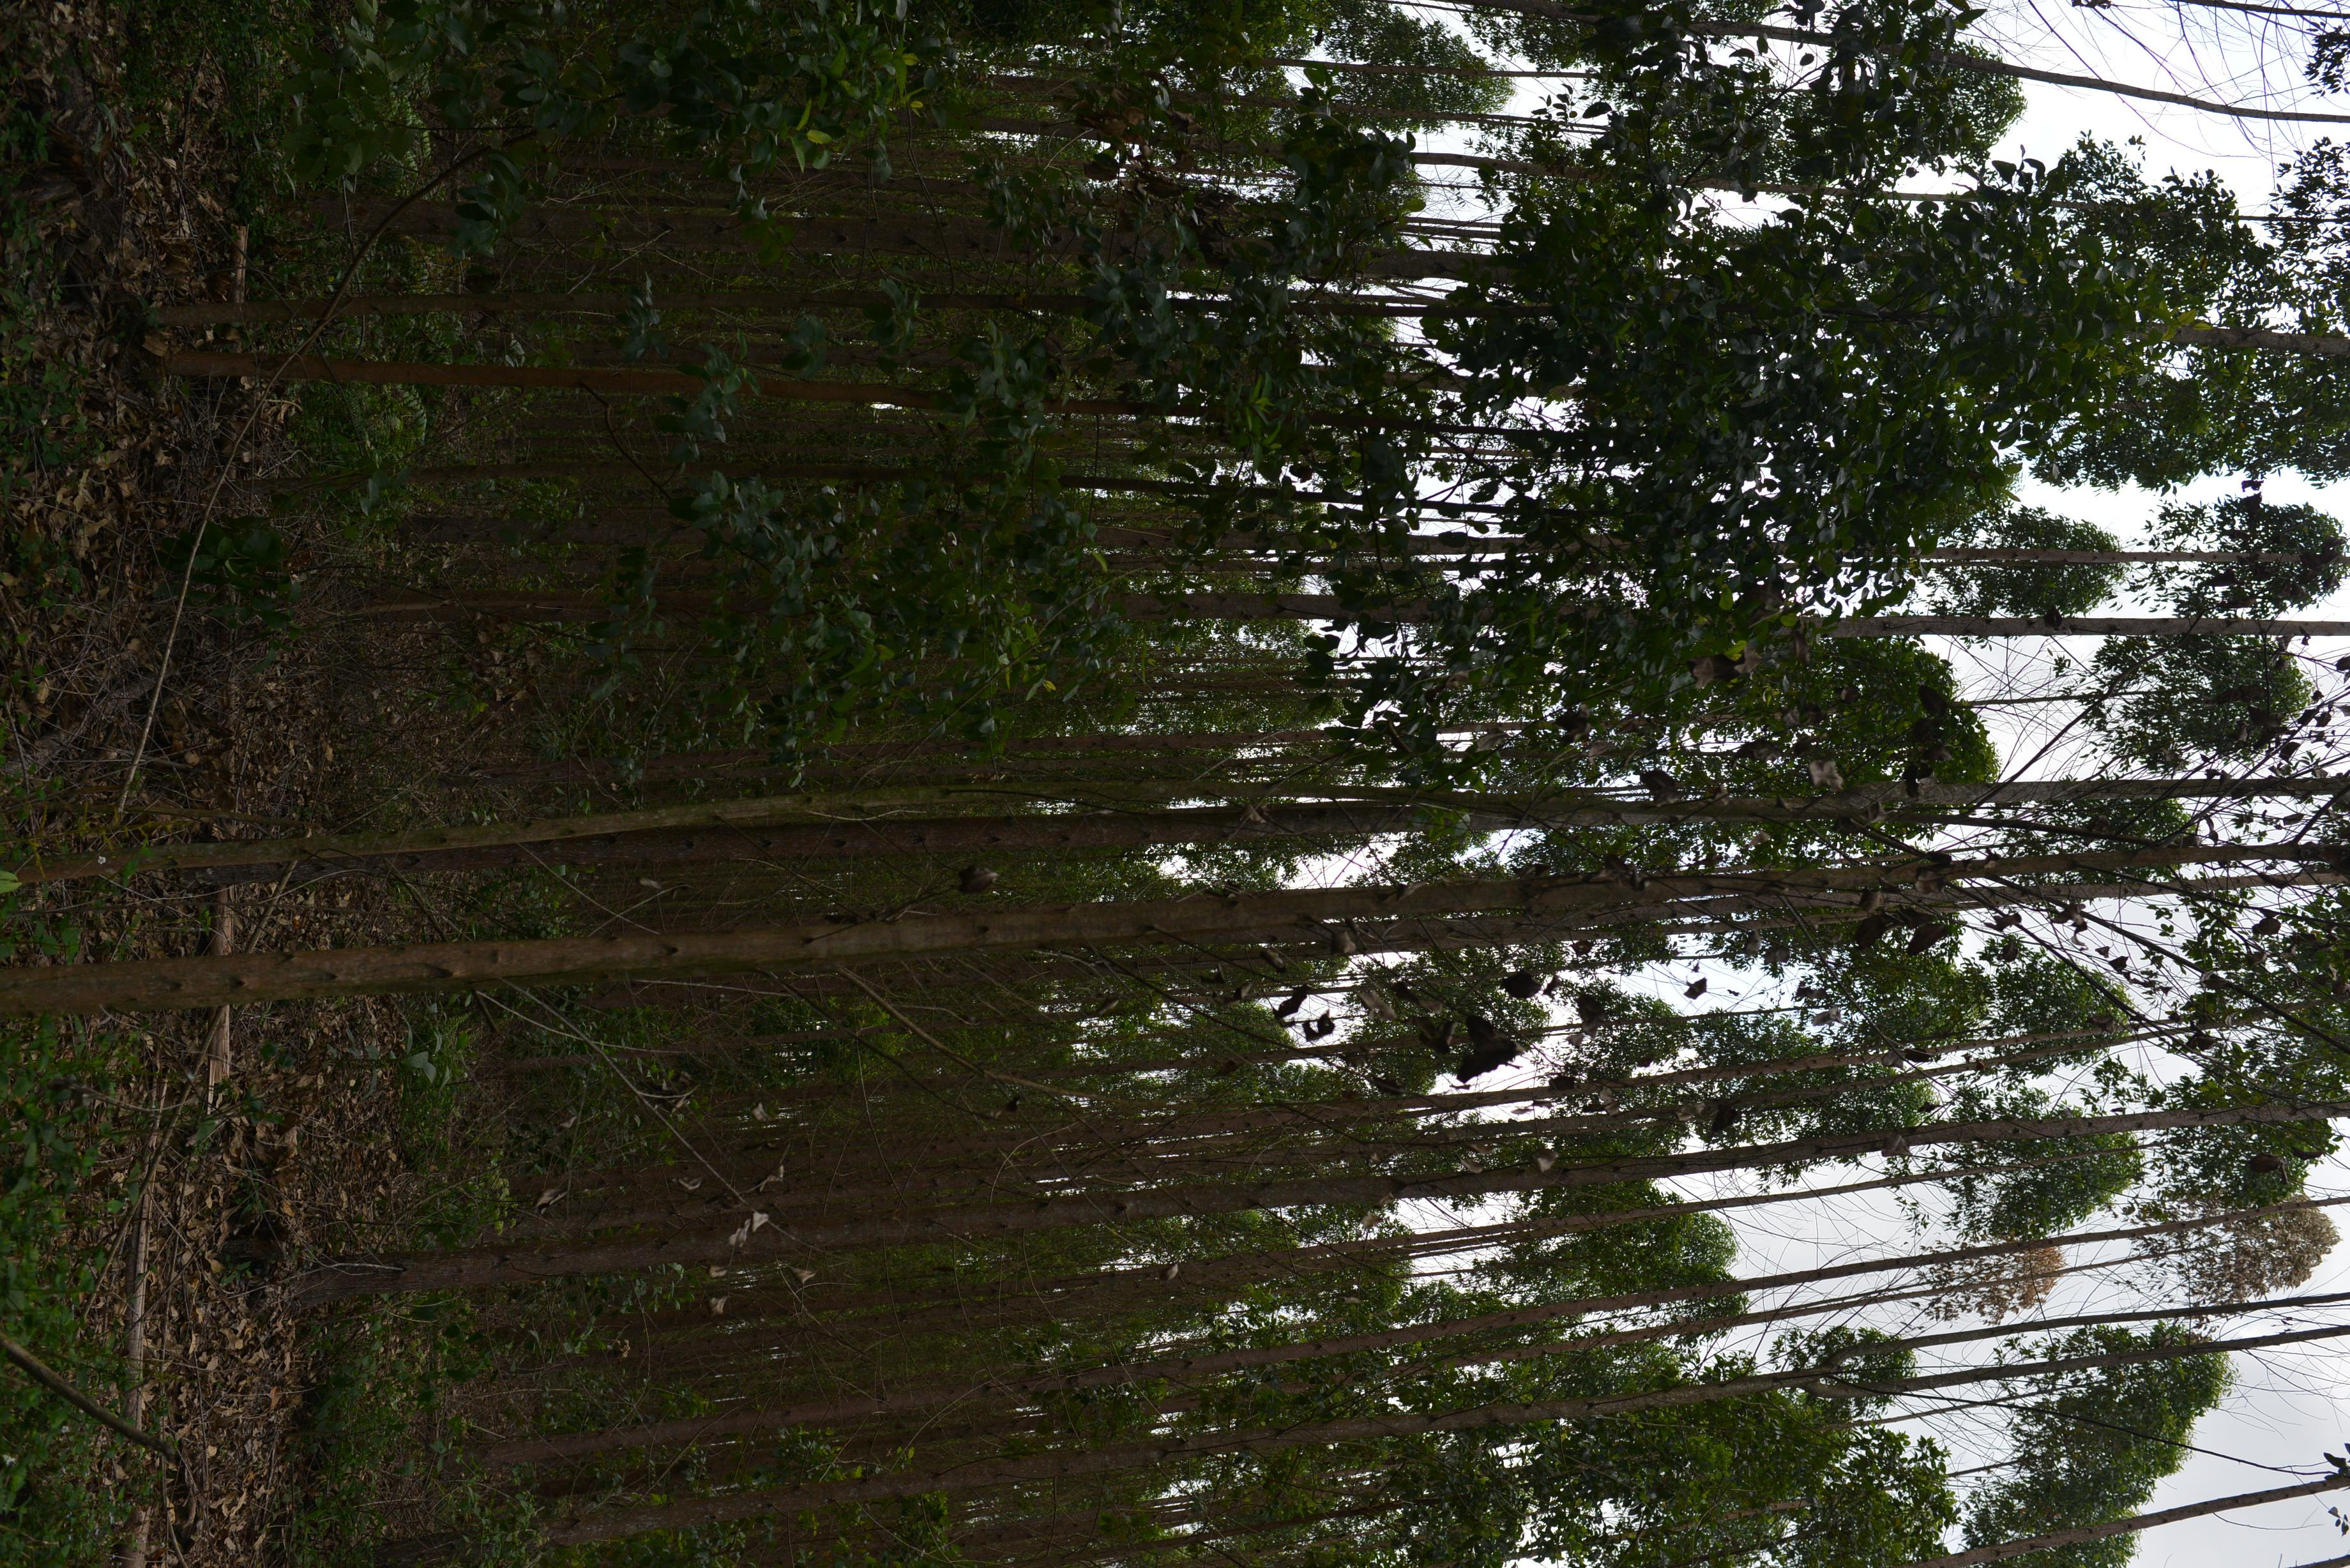Wither Tree Parts: (2137, 1157, 2343, 1312), (1923, 1230, 2065, 1321)
